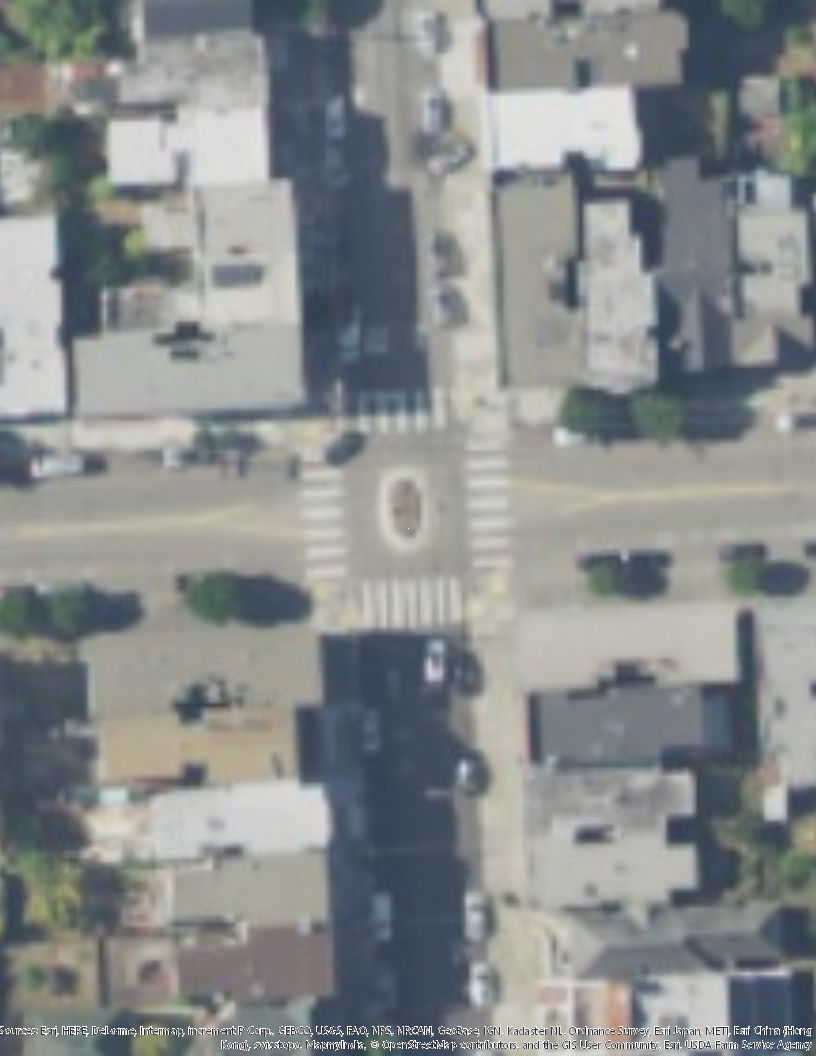zebracross: (463, 433, 514, 565), (344, 385, 459, 437), (302, 449, 347, 573), (356, 581, 466, 628)
